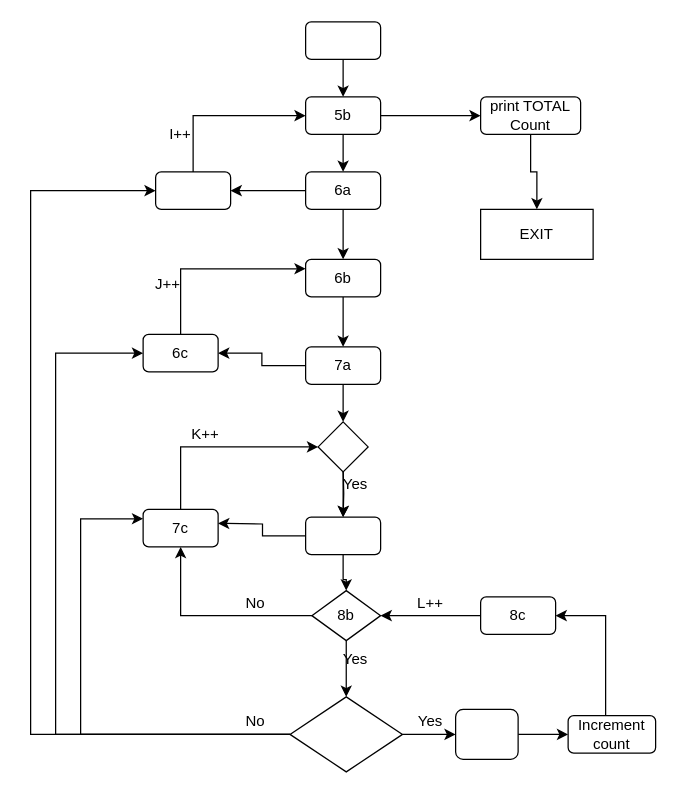
This 678x794 diagram has some shape labels left out. Here are the shapes that lost their labels. From the top down, the centre of each, then its label:
the point at 342,40: 5a
the point at 192,190: 5c
the point at 342,446: 7b
the point at 342,535: 8a
the point at 345,734: Condition
the point at 486,733: print the series
